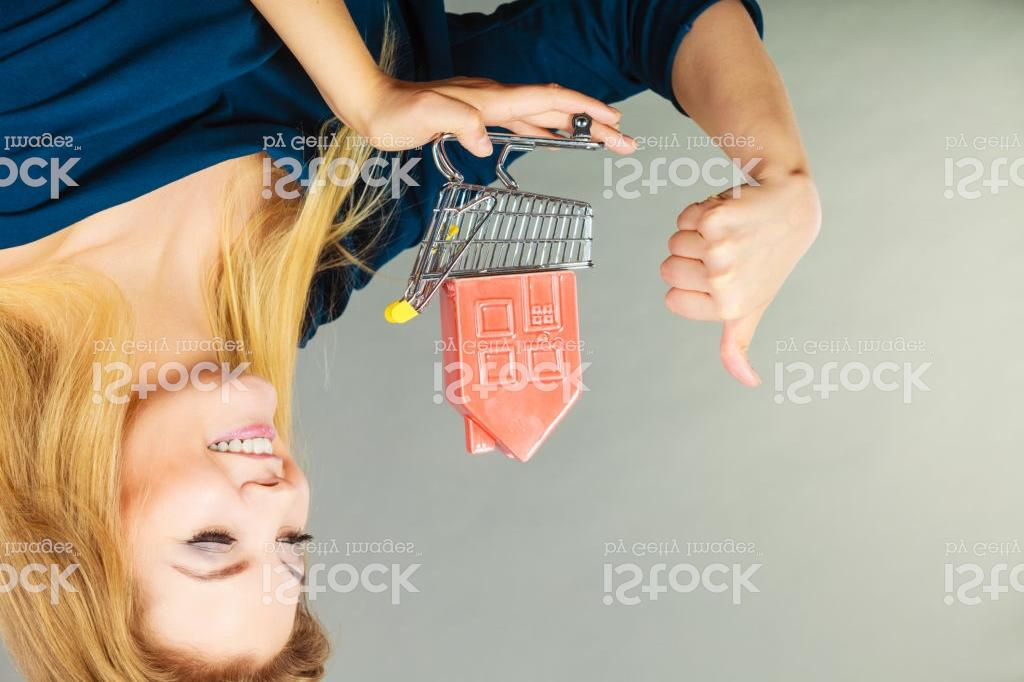thumbsdown: (660, 187, 773, 391)
